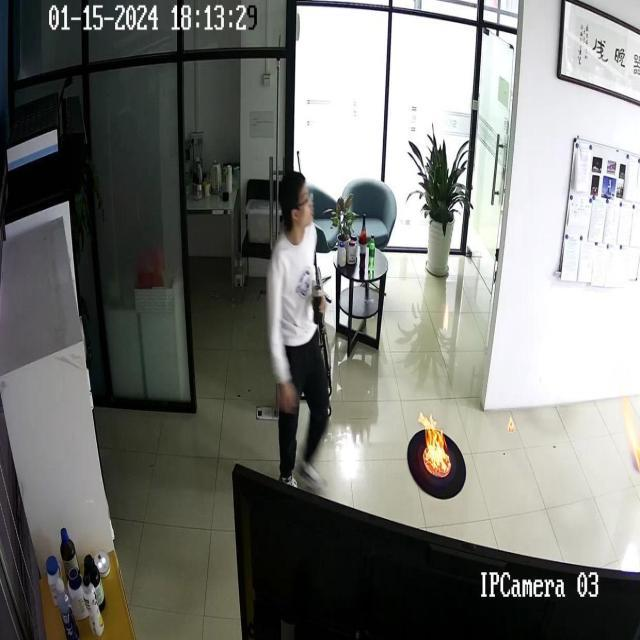smoke: (418, 409, 453, 478), (625, 394, 640, 482), (506, 414, 515, 434)
